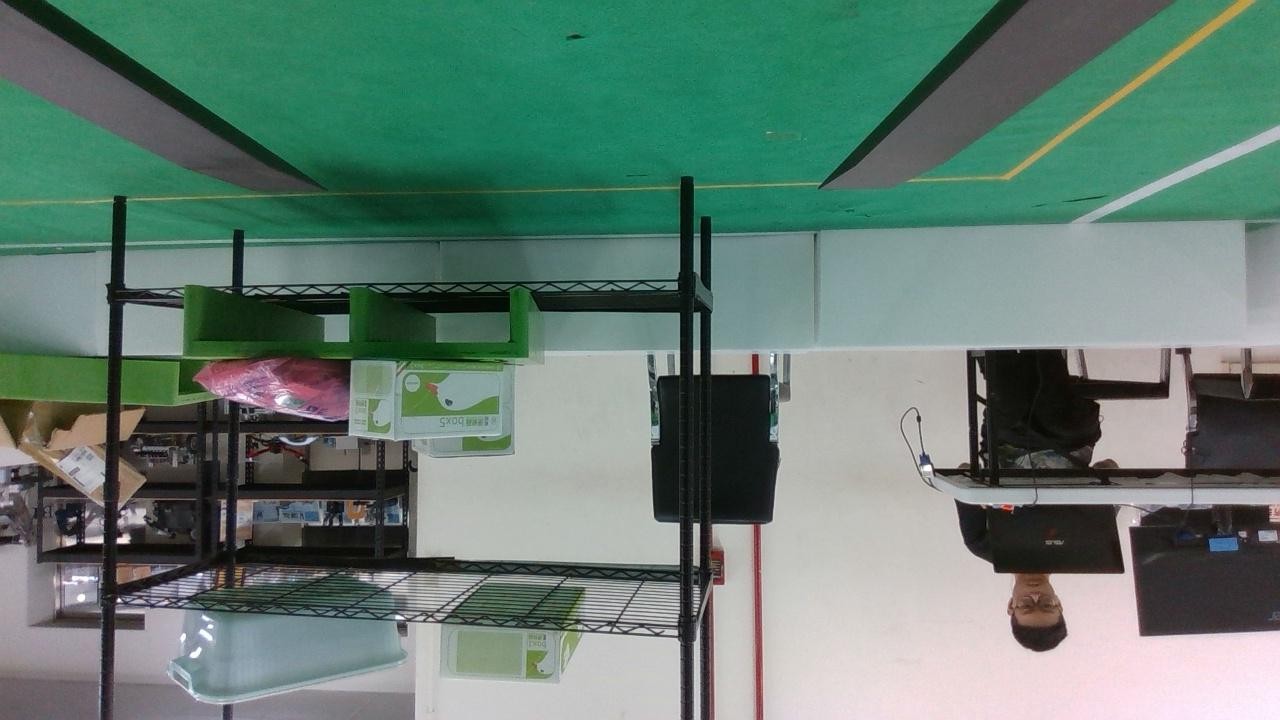Pallet: (182, 285, 530, 362)
